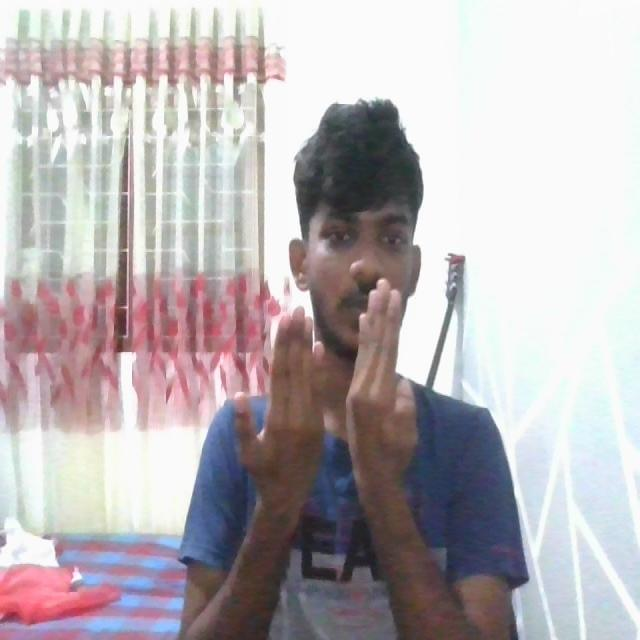ThankYou: (176, 273, 538, 640)
